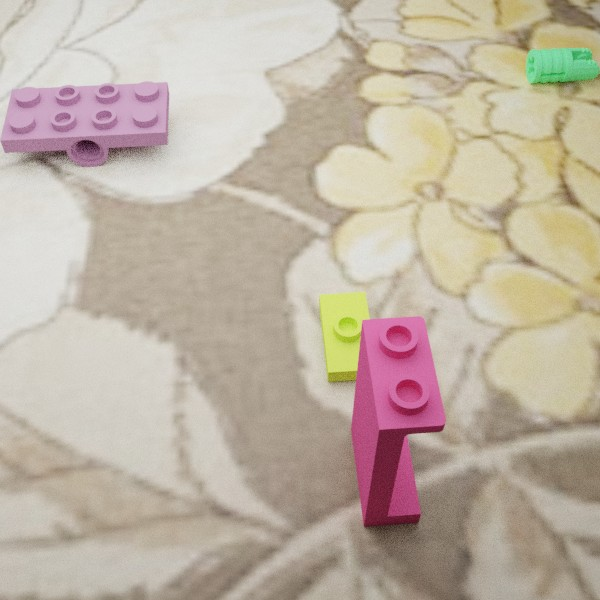lego: (350, 316, 446, 526), (0, 81, 169, 167), (319, 291, 377, 381), (525, 47, 600, 83)
